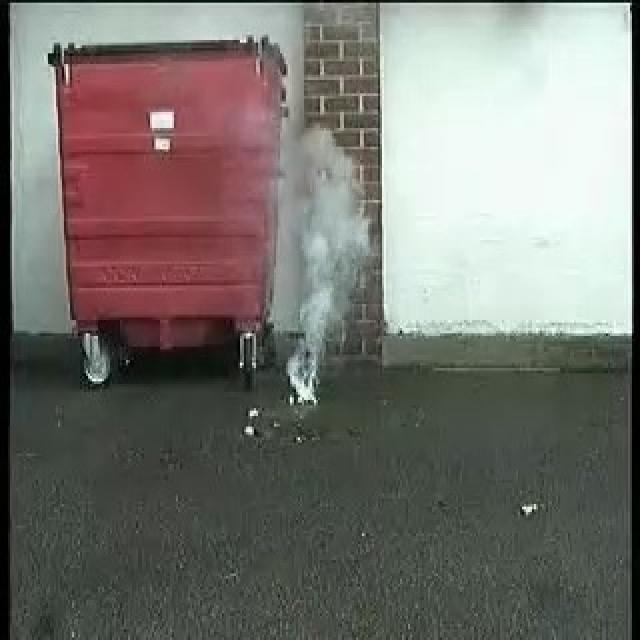smoke: (282, 128, 370, 405)
